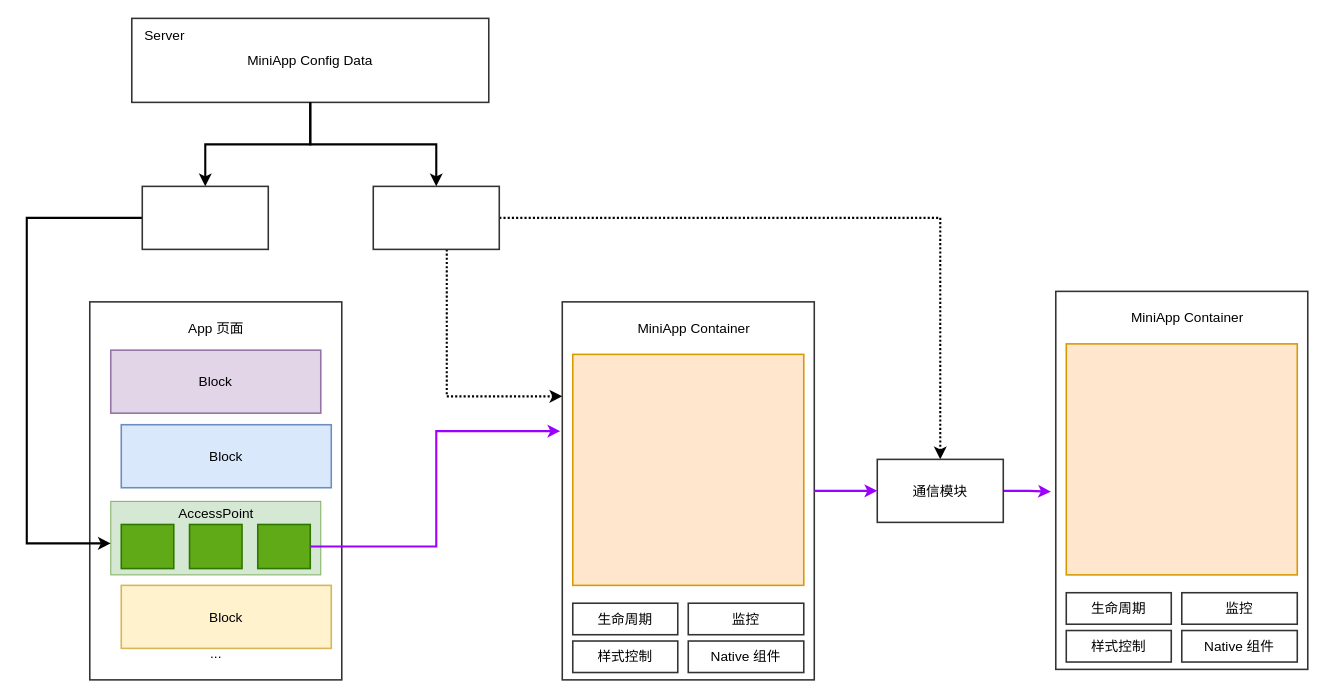
Image size: 1326x699. Some labels were removed from this diagram. The centre of each missing label's shape, as x and y in pixels:
"AccessPointPool" belongs at (205,217).
"MiniApp Manager" belongs at (436,217).
